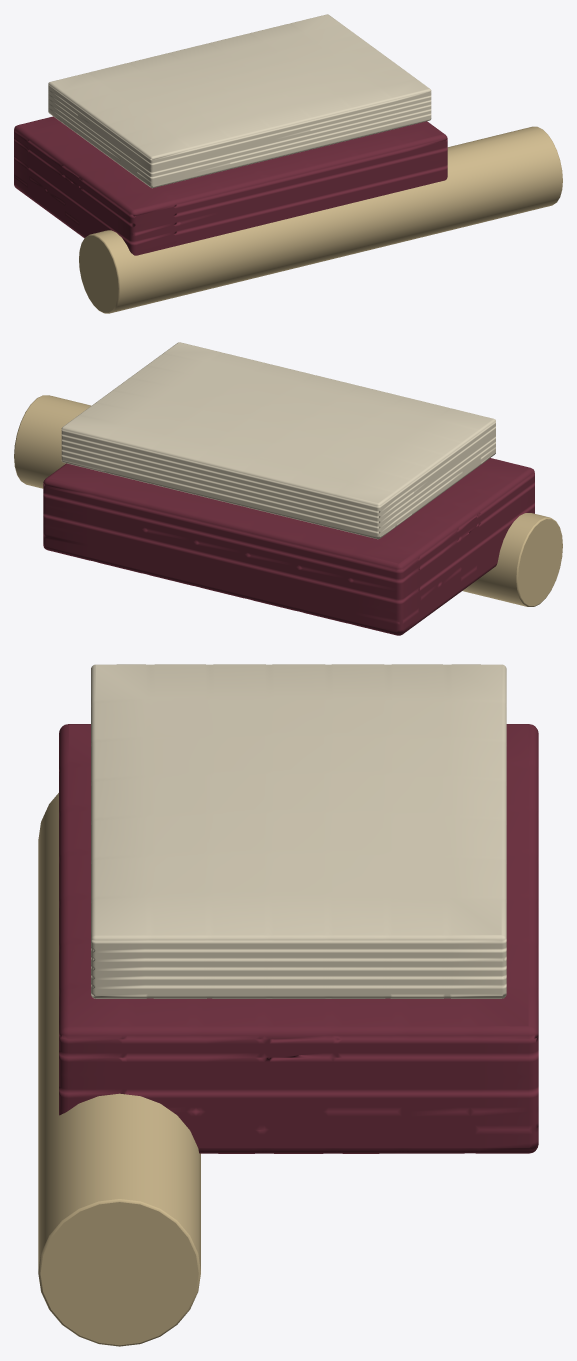
The model's file is ChieuMen_KhachO.glb.
3 renders of one model, top to bottom at view 1: azimuth 30°, elevation 25°; view 2: azimuth 150°, elevation 25°; view 3: azimuth 270°, elevation 25°, orthographic. The views are drawn at different scales.
Visible parts, largest first — view 1: ChieuMen_KhachO; view 2: ChieuMen_KhachO; view 3: ChieuMen_KhachO.
Part boxes in pixels (<box>): ChieuMen_KhachO: <box>14,14,562,313</box>; ChieuMen_KhachO: <box>14,342,562,635</box>; ChieuMen_KhachO: <box>38,664,538,1346</box>.
Bounding box in the file's own units: 0.882 × 0.2877 × 0.4303.
